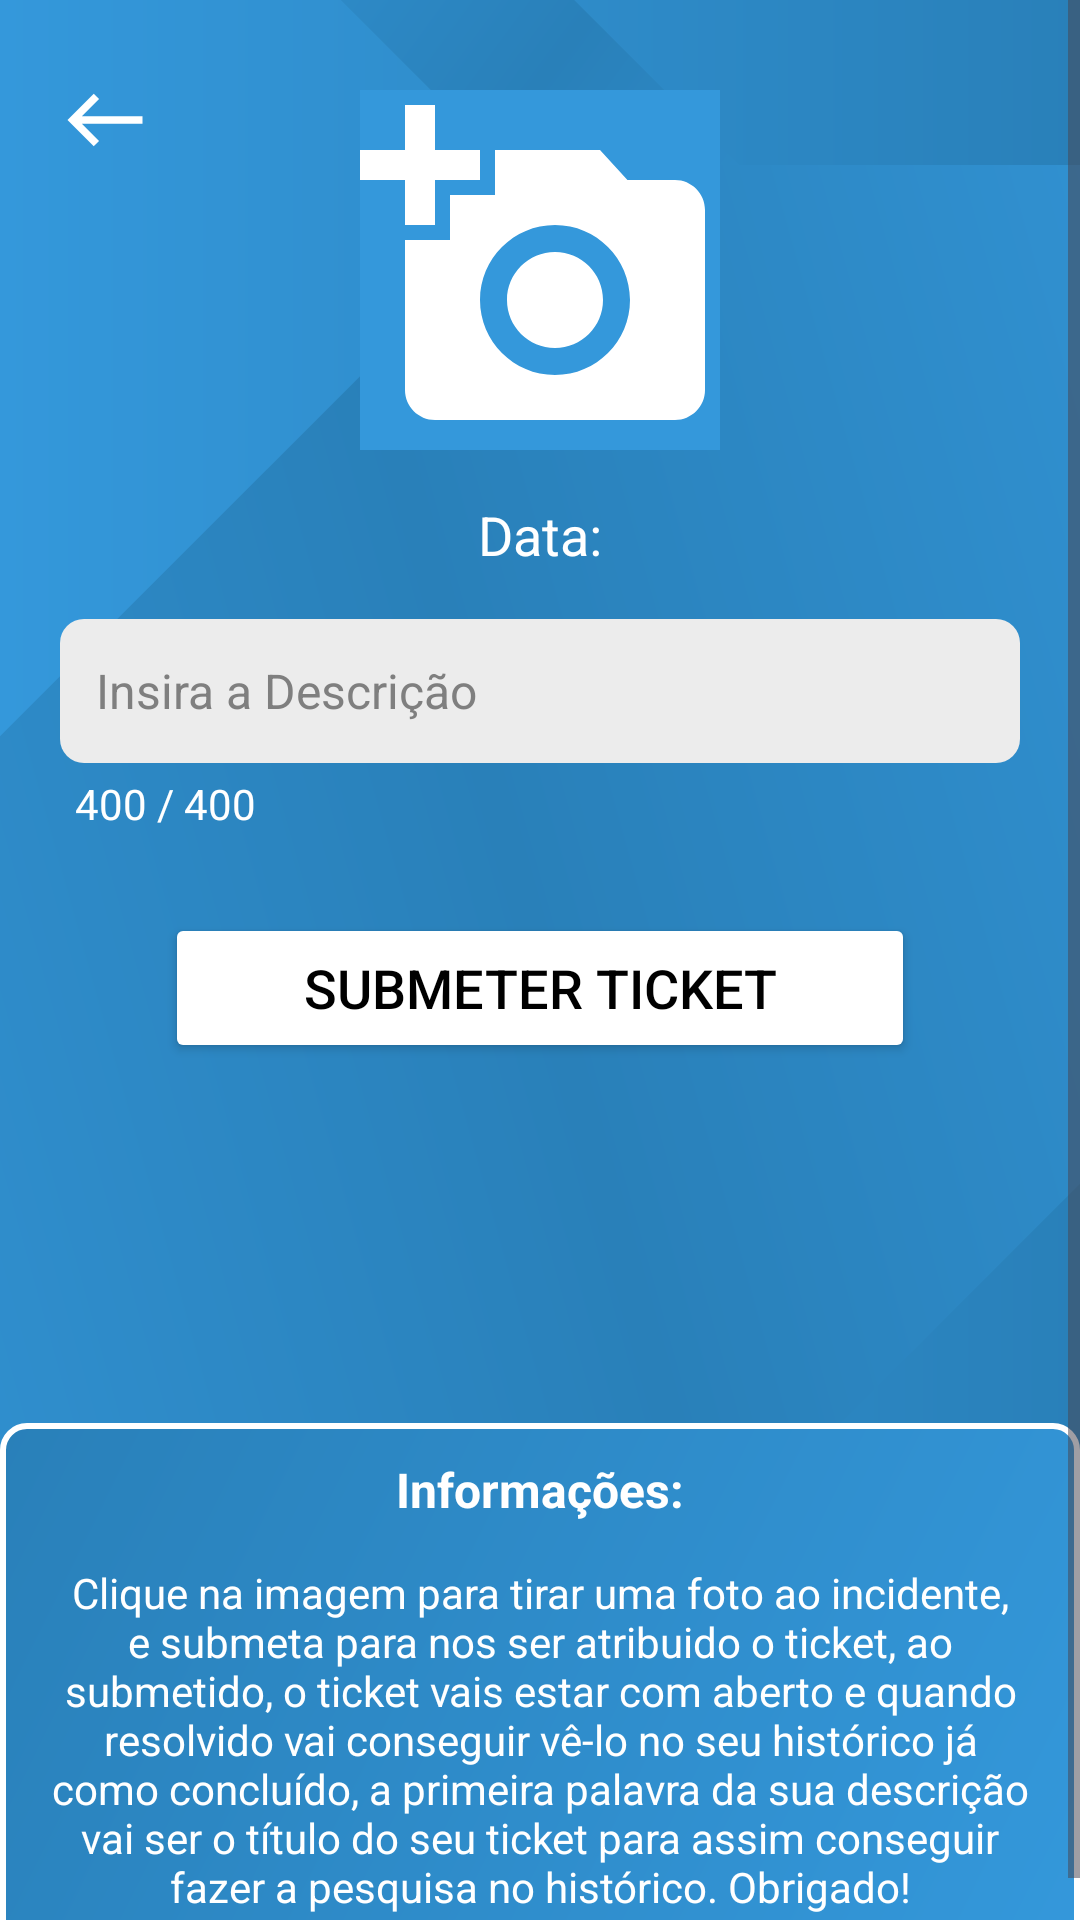

Where to tap for icons on this 1080 × 1920 app screen, as (x=x, y=y):
Anexar Fotografia: (x=540, y=270)
voltar: (x=105, y=120)
